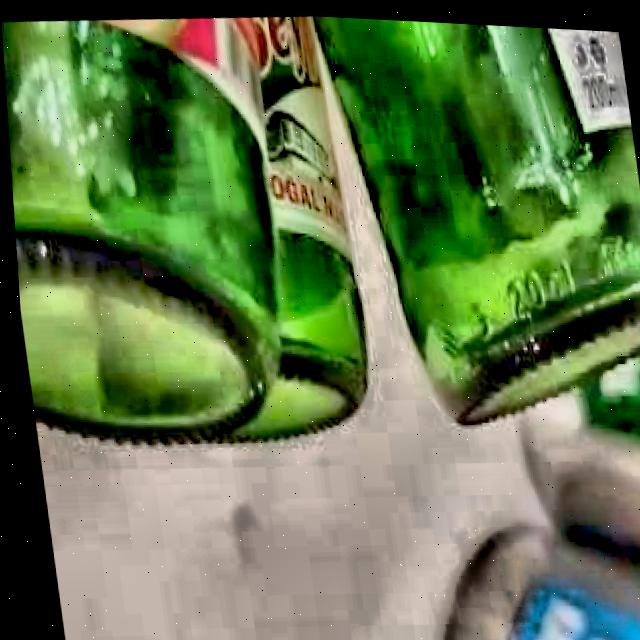glass: (1, 13, 359, 444), (313, 13, 640, 420)
